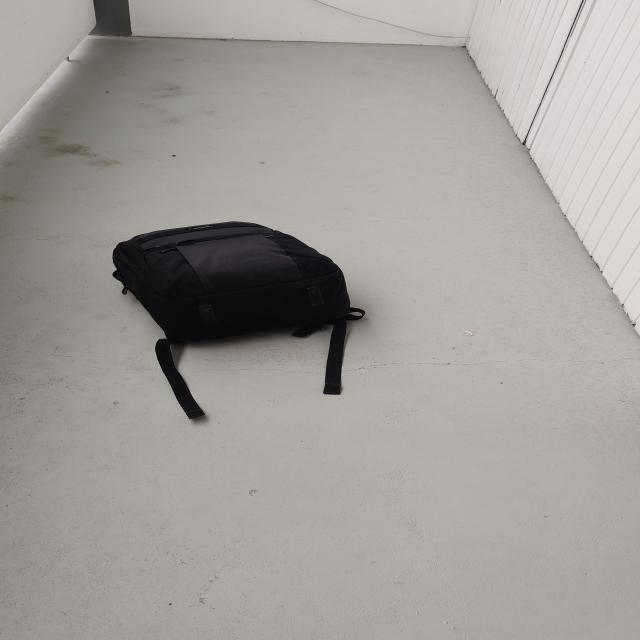backpack: (98, 216, 362, 348)
